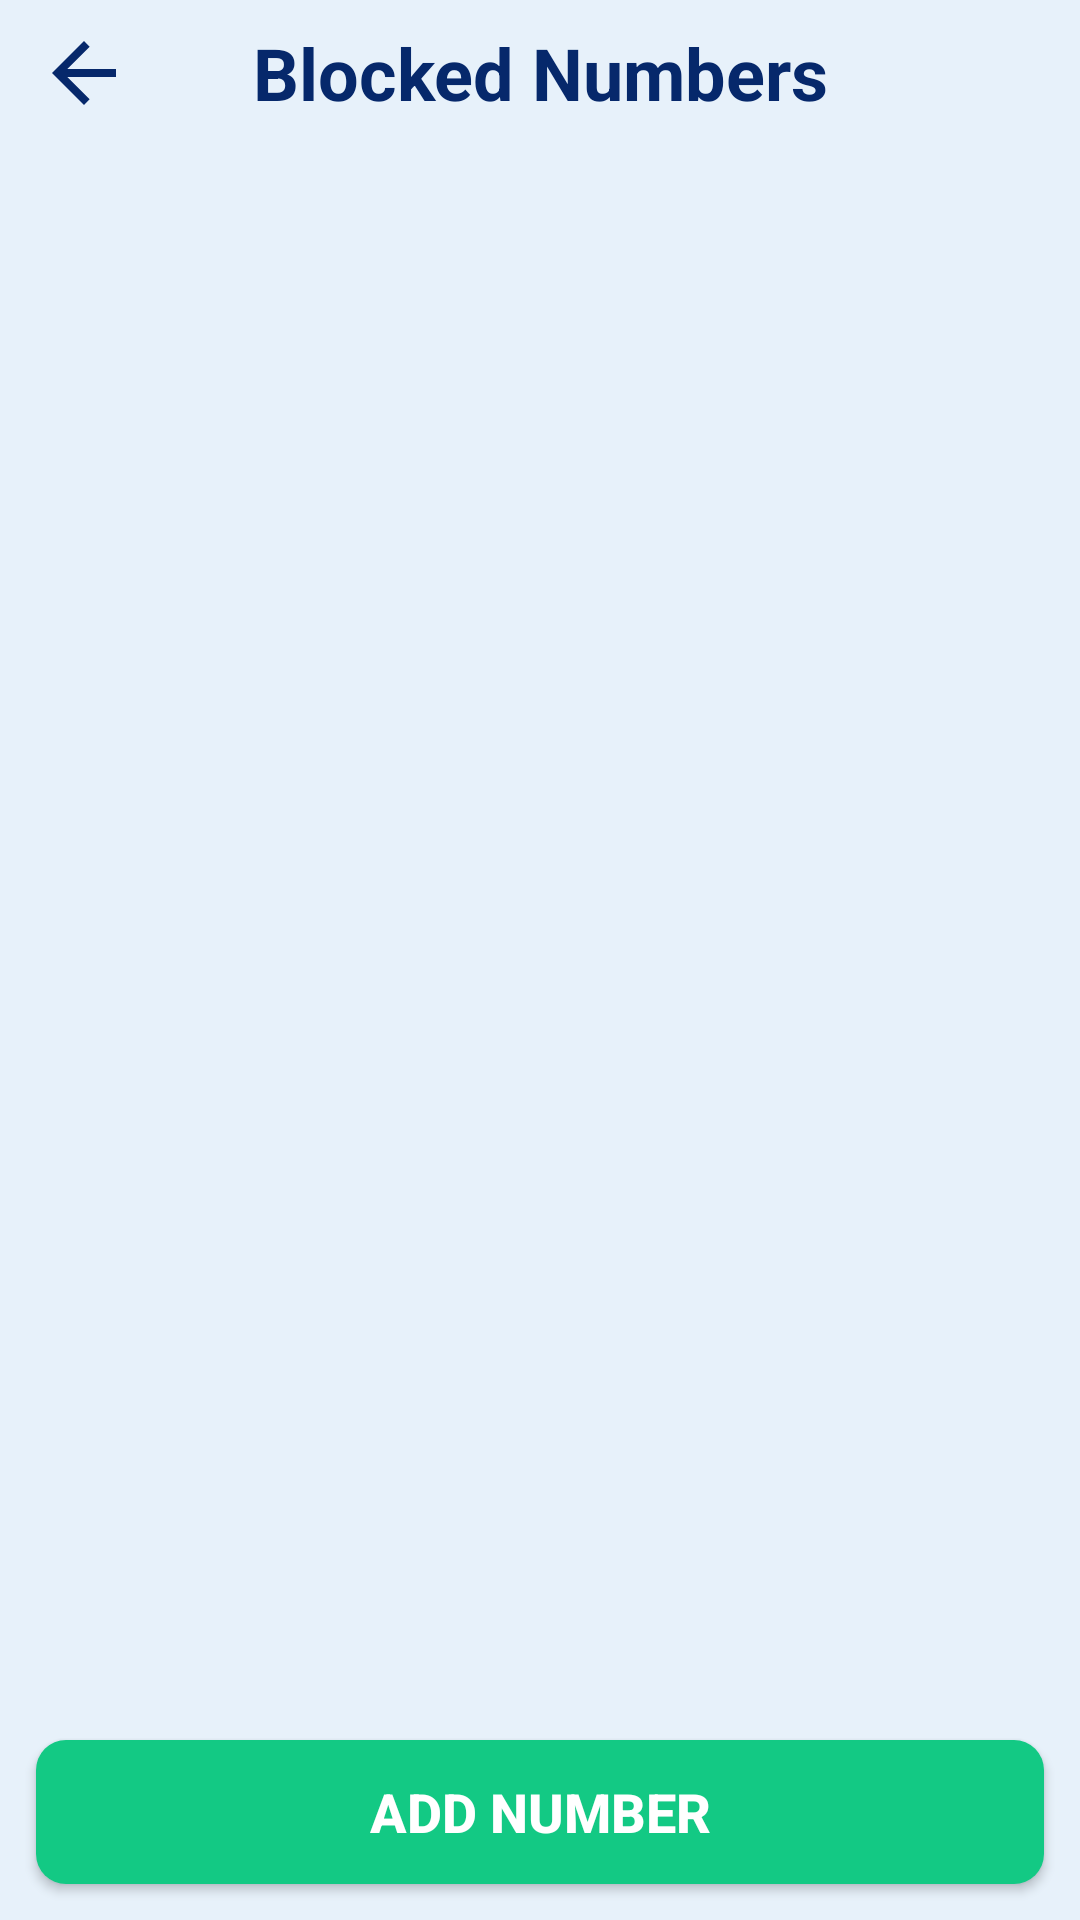

Screen size 1080*1920. Icon name, then its center in pixels as (x=x, y=y):
arrow back: (x=84, y=73)
